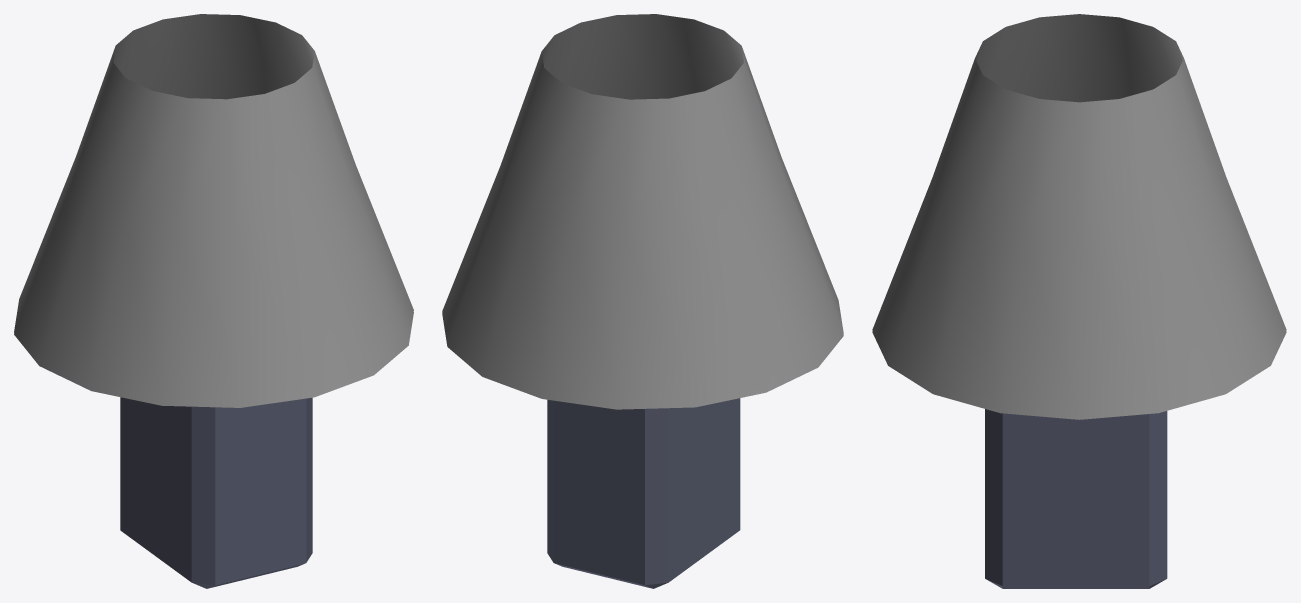
File: Prop_lamp5.FBX
3 renders of one model, left to right at view 1: azimuth 30°, elevation 25°; view 2: azimuth 150°, elevation 25°; view 3: azimuth 270°, elevation 25°, orthographic. The views are drawn at different scales.
Parts seen in each view (by area): view 1: Prop_lamp003, Box168; view 2: Prop_lamp003, Box168; view 3: Prop_lamp003, Box168.
Boxes of the visible parts, x1,y1,x2,y2 form: Prop_lamp003: (14, 14, 413, 407); Box168: (120, 397, 312, 588); Prop_lamp003: (442, 14, 843, 409); Box168: (547, 398, 740, 588); Prop_lamp003: (872, 14, 1286, 419); Box168: (985, 409, 1167, 588).
Bounding box in the file's own units: 23.1 × 23.1 × 31.23.
